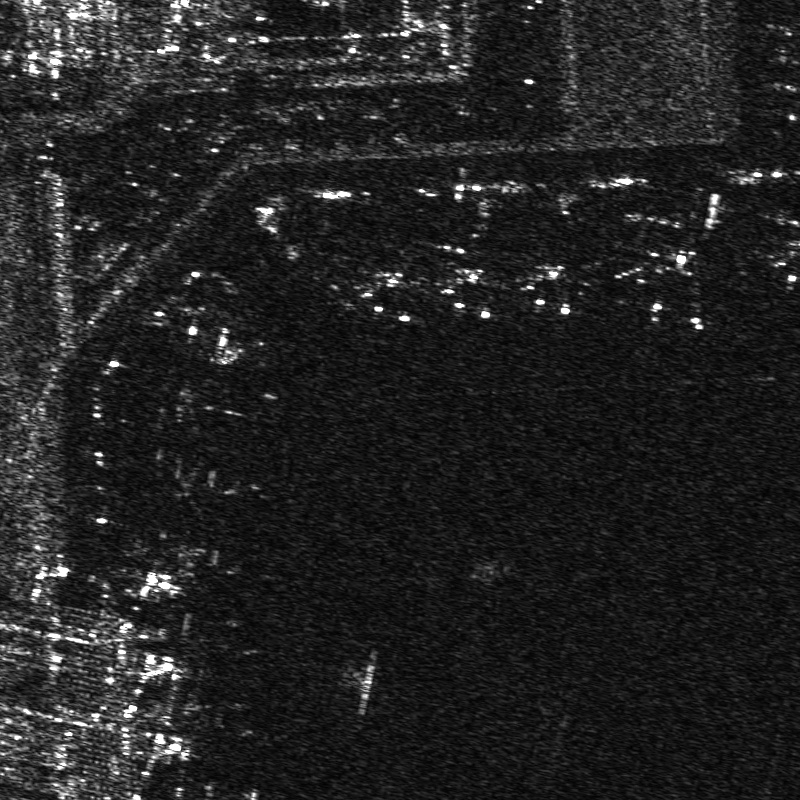Boeing737: (430, 263, 506, 324), (520, 259, 592, 316), (353, 269, 424, 323), (770, 216, 799, 295)
other: (613, 236, 747, 331)
